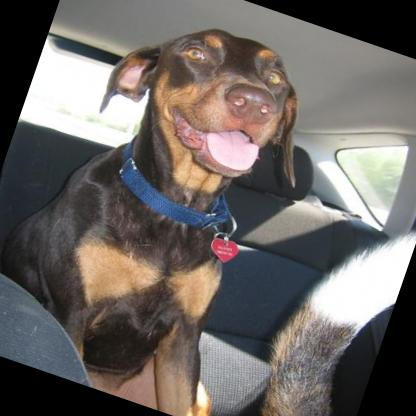Doberman: (0, 0, 336, 416)
